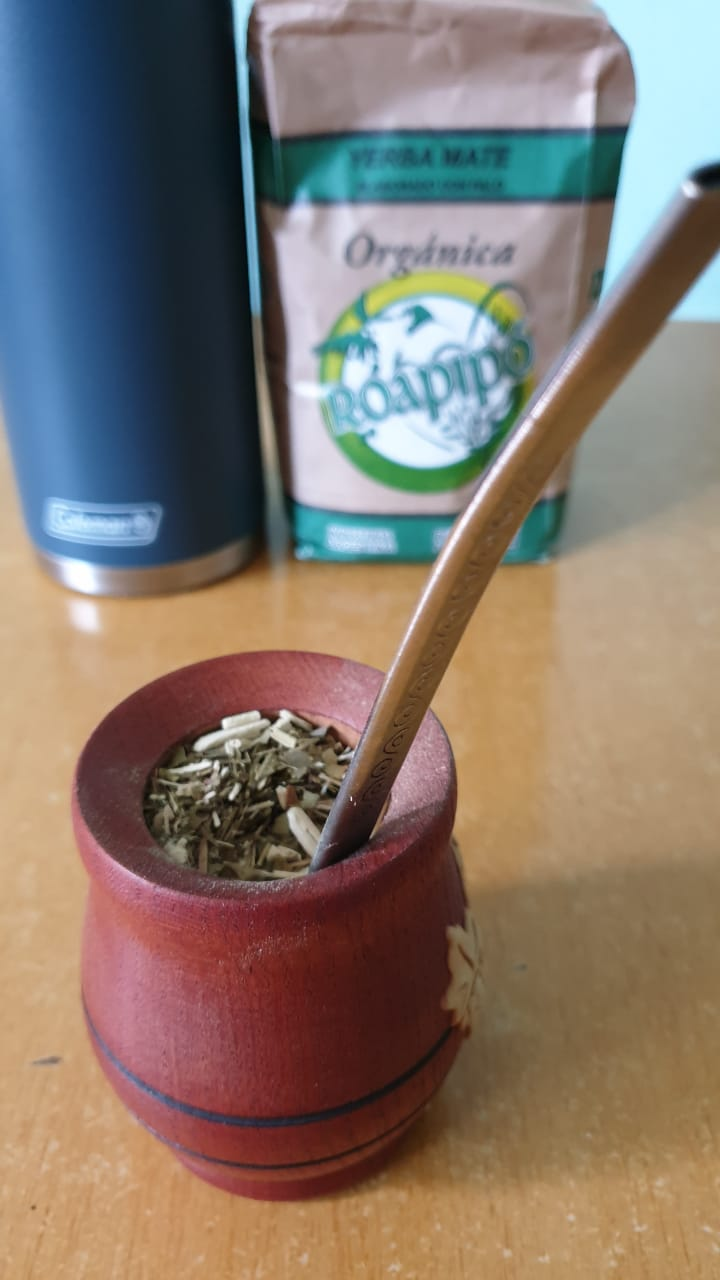madera: (57, 634, 495, 1212)
mate: (53, 637, 529, 1216)
